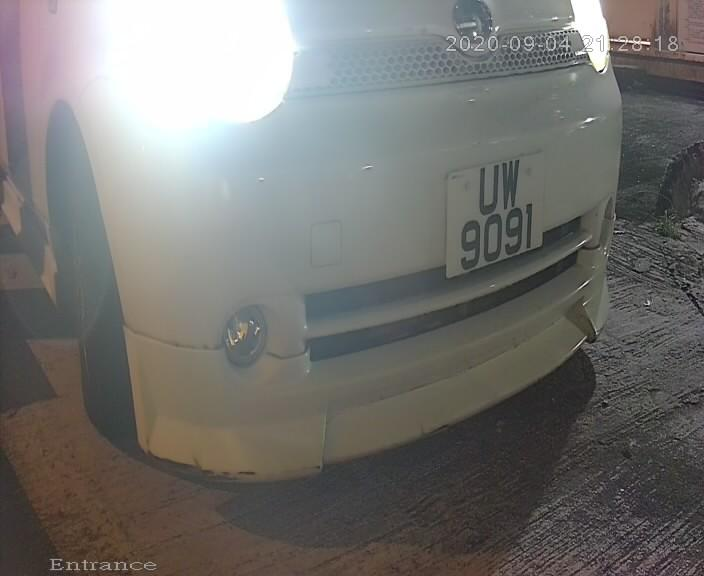License Plate: (444, 142, 547, 299)
